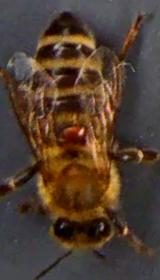varroa_mite: (56, 121, 90, 143)
